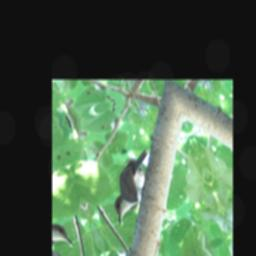Cuckoo: (96, 148, 171, 227)
